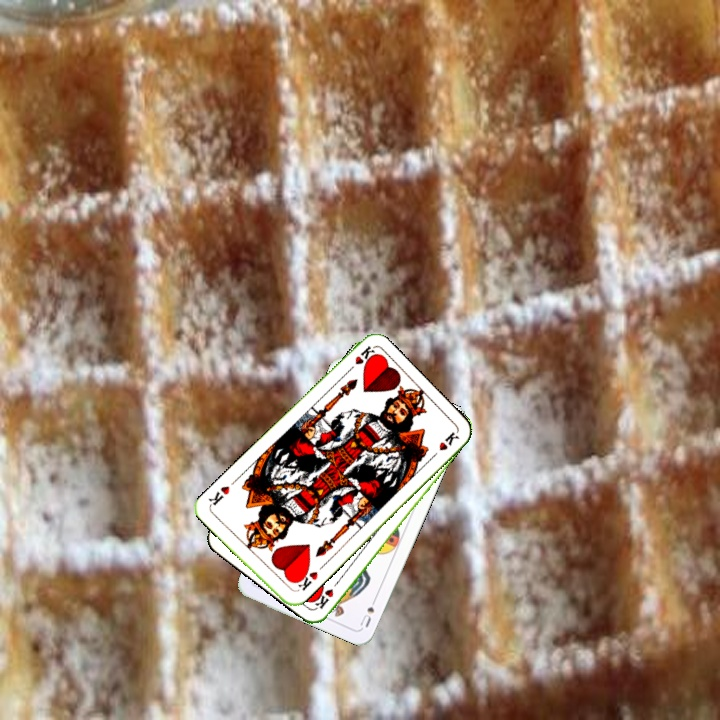HK: (342, 342, 378, 376), (311, 576, 342, 612), (291, 565, 320, 594)
SU: (356, 592, 380, 630)
